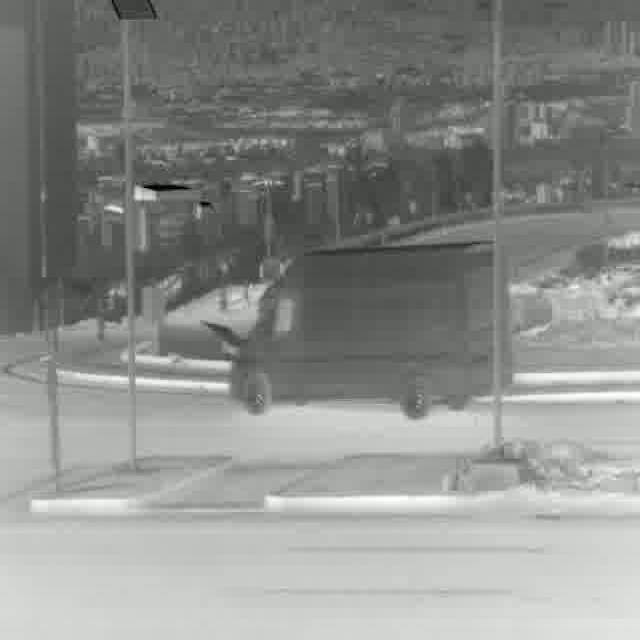Car: (230, 241, 512, 411)
